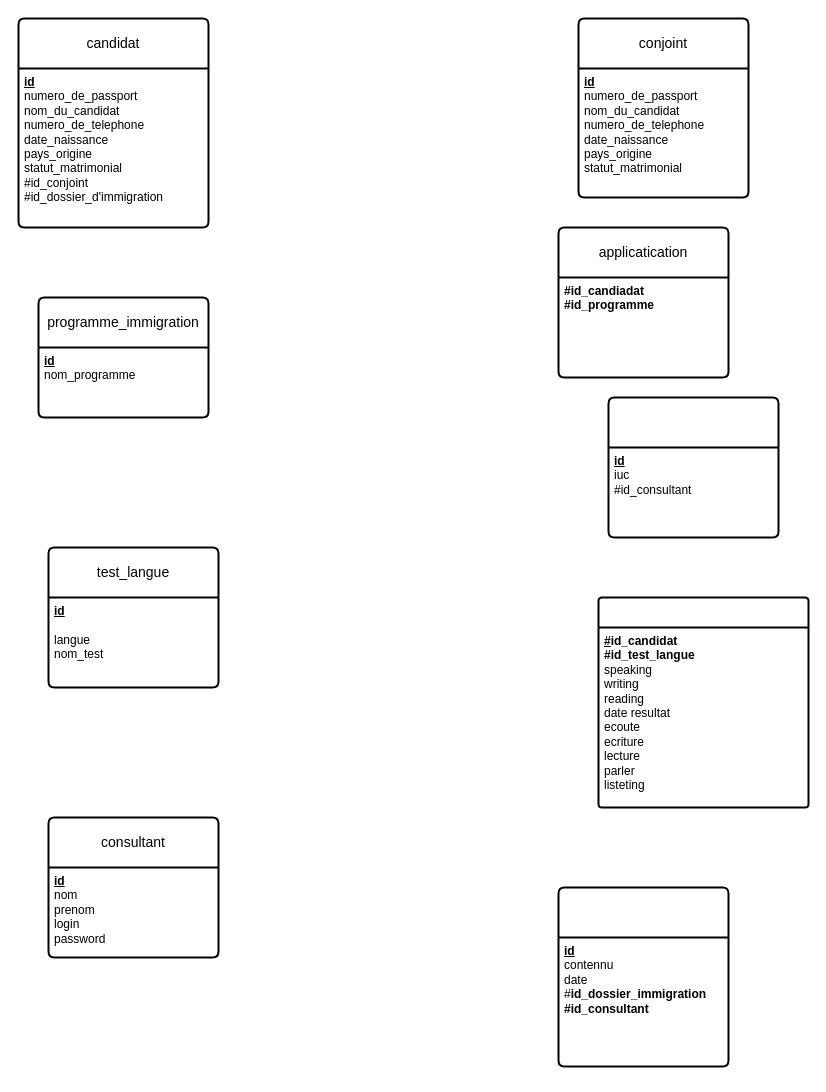
This 826x1092 diagram has some shape labels left out. Each missing label, with the box of its shape:
commentaire: (557, 886, 729, 1067)
dossier_immigration: (607, 396, 779, 538)
passages: (597, 596, 809, 808)
